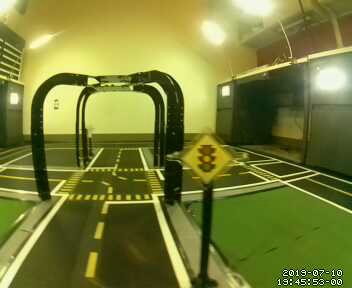Traffic light sign: (184, 133, 232, 182)
